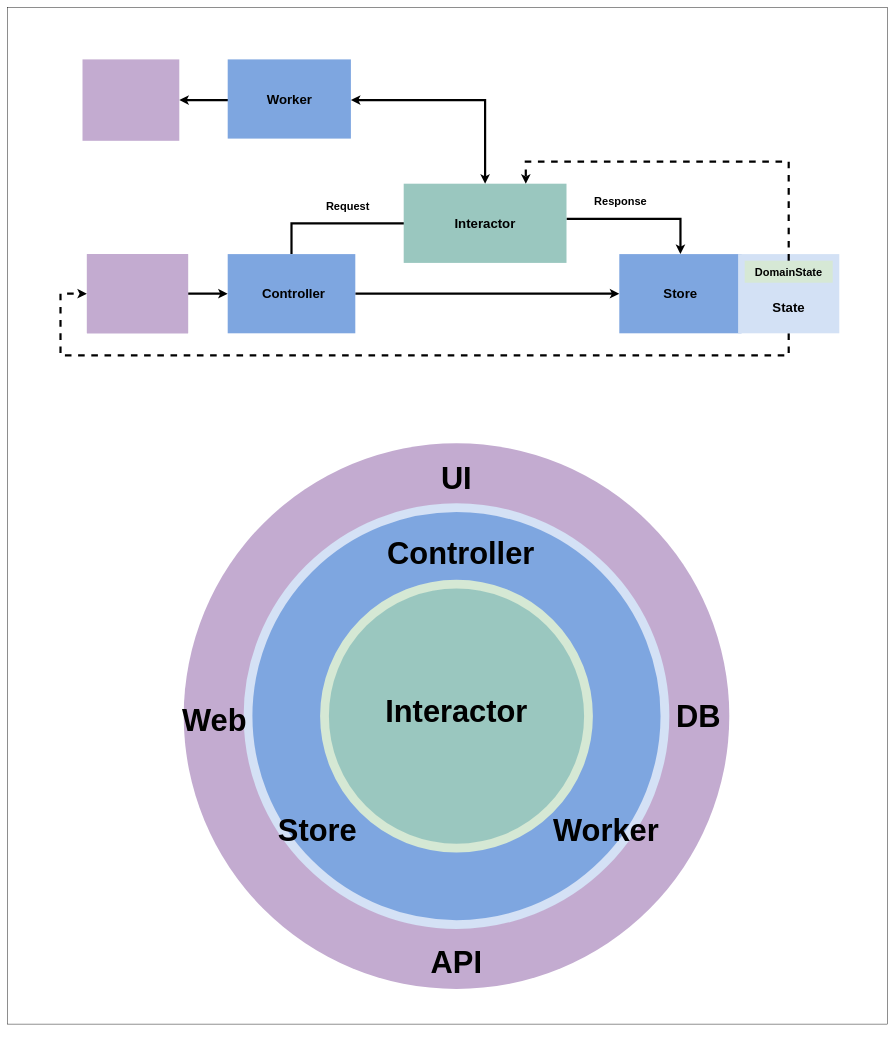
The diagram is 895 pixels wide and 1057 high, and some of its shapes have lost their labels. The shapes that lost their labels are listed below. From the top down, each one's centre as x and y in pixels, then its label:
At [130,100]: "API & DB ..".
At [137,293]: "View".
